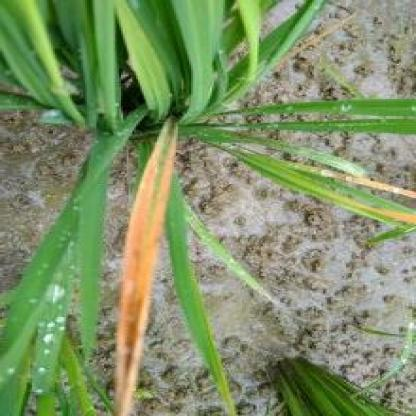Tungro: (118, 127, 179, 416)
